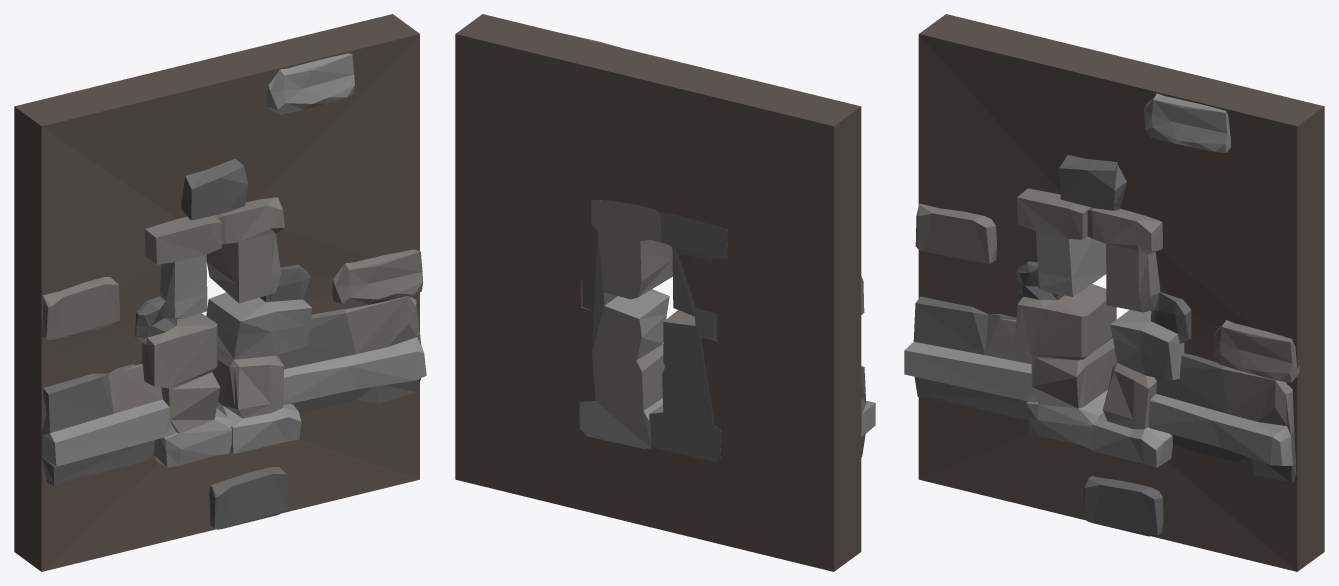
File: MCastle_SquareWalls_Border_CrossWin.FBX
The picture shows the model from 3 angles, left to right: view 1: azimuth 30°, elevation 25°; view 2: azimuth 150°, elevation 25°; view 3: azimuth 330°, elevation 25°; orthographic projection.
Parts seen in each view (by area): view 1: MCastle_SquareWalls_Border_CrossWin_LOD0; view 2: MCastle_SquareWalls_Border_CrossWin_LOD0; view 3: MCastle_SquareWalls_Border_CrossWin_LOD0.
Boxes of the visible parts, x1,y1,x2,y2 form: MCastle_SquareWalls_Border_CrossWin_LOD0: (14,14,426,571); MCastle_SquareWalls_Border_CrossWin_LOD0: (455,14,875,571); MCastle_SquareWalls_Border_CrossWin_LOD0: (904,14,1324,571).
Size of what is drawn, in the model's own units: 4.01 by 4.5 by 0.7685.
